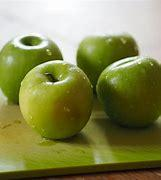apple: (22, 60, 94, 133), (94, 56, 161, 128), (3, 34, 68, 101), (65, 22, 140, 75)
